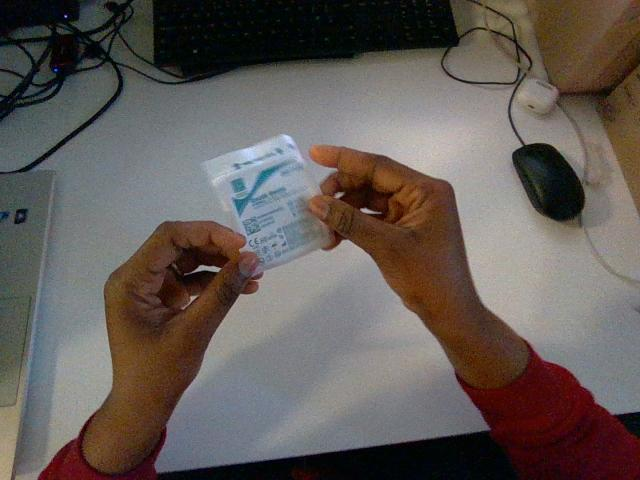gauze: (202, 135, 332, 272)
